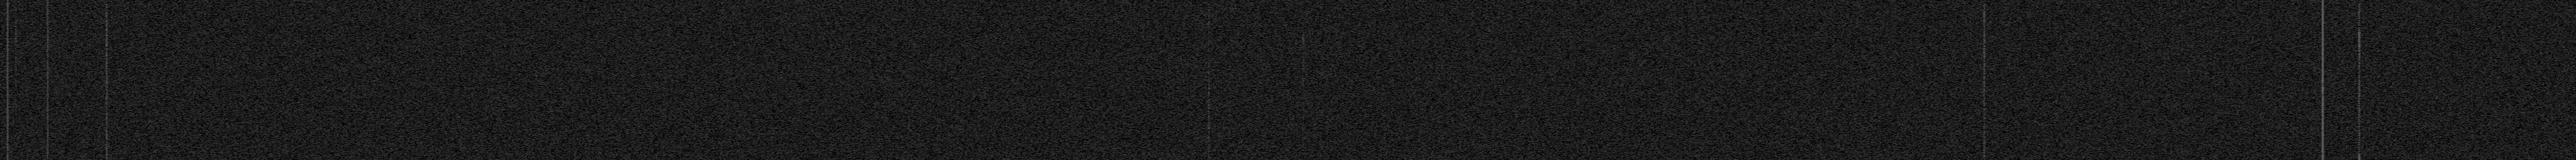wv_am: (2321, 0, 2325, 160), (46, 0, 49, 160)
wv_cw: (7, 0, 10, 160)
wv_lsb: (1983, 2, 1986, 160), (2357, 3, 2361, 144), (1207, 35, 1211, 142), (13, 26, 18, 59), (1207, 3, 1211, 35), (15, 66, 18, 94), (15, 8, 18, 25), (1207, 144, 1211, 160), (2357, 144, 2361, 160), (15, 59, 18, 66), (15, 3, 18, 8), (15, 96, 16, 104), (15, 106, 16, 112), (15, 153, 16, 158), (15, 129, 16, 134), (15, 142, 16, 145), (15, 139, 16, 140), (15, 135, 16, 137)
wv_usb: (105, 3, 108, 160), (1301, 71, 1304, 111), (1301, 31, 1304, 69), (1301, 139, 1304, 160), (1301, 120, 1304, 125), (1303, 112, 1304, 120), (1303, 16, 1304, 20), (1303, 5, 1304, 8), (1303, 132, 1304, 135), (1303, 26, 1304, 30), (1303, 13, 1304, 15), (1303, 10, 1304, 12), (1303, 127, 1304, 129)
